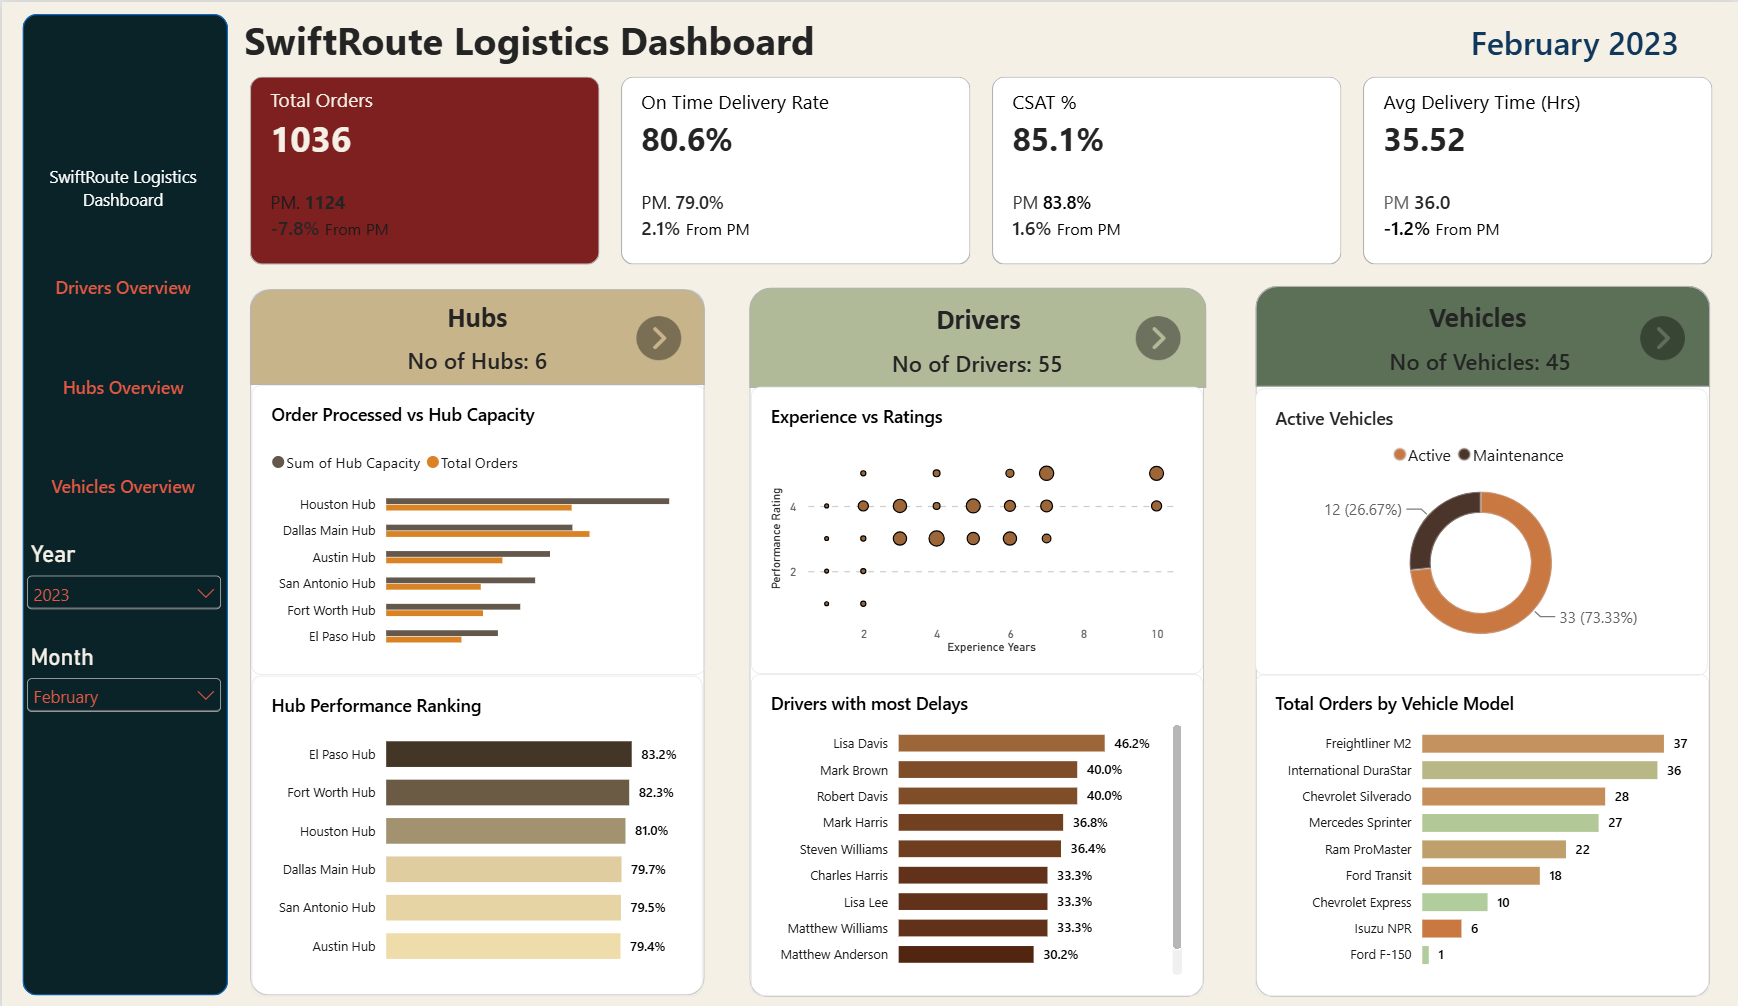

The page's visual inventory and layout, read from the dashboard file:
{"tool":"powerbi","page":{"name":"SwiftRoute Logistics Dashboard","canvas":[1450,840],"ordinal":0},"visuals":[{"type":"shape","box":[16.7,10,171.7,820],"z":0},{"type":"textbox","box":[185,10,510,47.5],"z":1000},{"type":"cardVisual","fields":{"Data":["Orders.Total Orders","Orders.On Time Delivery Rate","Orders.CSAT %","Orders.Avg Delivery Time (Hrs)"]},"box":[207.5,57.5,1222.5,162.5],"z":2000},{"type":"slicer","fields":{"Values":["Date Table.Year"]},"box":[16,450,172,70],"z":3000},{"type":"slicer","fields":{"Values":["Date Table.Month"]},"box":[16,536,172,78],"z":4000},{"type":"shape","box":[207.5,240,380,590],"z":5000},{"type":"shape","box":[207.5,240,380,80],"z":6000},{"type":"textbox","box":[207.5,248.8,380,31.2],"z":7000},{"type":"cardVisual","fields":{"Data":["Hubs.No of Hubs"]},"box":[208.6,280,377.1,38.6],"z":8000},{"type":"clusteredBarChart","title":"Order Processed vs Hub Capacity","fields":{"Category":["Hubs.HubName"],"Y":["Sum(Hubs.Hub Capacity)","Orders.Total Orders"]},"box":[208.9,320,378.9,242.2],"z":9000},{"type":"barChart","title":"Hub Performance Ranking","fields":{"Category":["Hubs.HubName"],"Y":["Orders.On Time Delivery Rate"]},"box":[208.9,562.2,376.7,267.8],"z":10000},{"type":"shape","box":[624.3,240.8,380,590],"z":11000},{"type":"textbox","box":[947.5,238.8,18.8,40],"z":12000},{"type":"shape","box":[624,238,382,84],"z":13000},{"type":"shape","box":[1047.1,241.4,380,590],"z":14000},{"type":"shape","box":[1046.7,237.8,380,84.4],"z":15000},{"type":"textbox","box":[625,250,380,32.5],"z":16000},{"type":"cardVisual","fields":{"Data":["Drivers.No of Drivers"]},"box":[626,282,378,40],"z":17000},{"type":"scatterChart","title":"Experience vs Ratings","fields":{"Size":["Sum(Drivers.Experience Years)1"],"X":["Drivers.Experience Years"],"Y":["Drivers.Performance Rating"]},"box":[625.6,321.1,377.8,240],"z":18000},{"type":"barChart","title":"Drivers with most Delays","fields":{"Category":["Drivers.DriverName"],"Y":["Orders.Delayed Delivery Rate"]},"box":[625.6,561.1,377.8,268.9],"z":19000},{"type":"textbox","box":[1043.2,248.3,380,32.5],"z":20000},{"type":"cardVisual","fields":{"Data":["Vehicles.No of Vehicles"]},"box":[1042.9,281.4,384.3,38.6],"z":21000},{"type":"donutChart","title":"Active Vehicles","fields":{"Category":["Vehicles.Vehicle Status"],"Y":["CountNonNull(Vehicles.Vehicle ID)"]},"box":[1047.8,322.2,377.8,240],"z":22000},{"type":"barChart","fields":{"Category":["Vehicles.Vehicle Model"],"Y":["Orders.Total Orders"]},"box":[1046.7,561.1,378.9,268.9],"z":23000},{"type":"cardVisual","fields":{"Data":["Orders.Year Mont Title"]},"box":[1198.6,10,231.4,47.1],"z":24000},{"type":"image","box":[947.5,257.5,37.1,47.1],"z":25000},{"type":"pageNavigator","box":[17.1,118.6,168.6,325.7],"z":26000},{"type":"image","box":[1368.8,257.5,37.1,47.1],"z":27000},{"type":"image","box":[530,257.5,37.1,47.1],"z":28000}]}

Visuals, with their boxes in screenshot pixels (x1, y1, x2, y2), scaled from the page's 1450x840 canvas onto the 1738x1006 screenshot:
shape: bbox=[20, 12, 226, 994]
textbox: bbox=[222, 12, 833, 69]
cardVisual - Orders.Total Orders x Orders.On Time Delivery Rate: bbox=[249, 69, 1714, 263]
slicer - Date Table.Year: bbox=[19, 539, 225, 623]
slicer - Date Table.Month: bbox=[19, 642, 225, 735]
shape: bbox=[249, 287, 704, 994]
shape: bbox=[249, 287, 704, 383]
textbox: bbox=[249, 298, 704, 335]
cardVisual - Hubs.No of Hubs: bbox=[250, 335, 702, 382]
"Order Processed vs Hub Capacity" clusteredBarChart: bbox=[250, 383, 705, 673]
"Hub Performance Ranking" barChart: bbox=[250, 673, 702, 994]
shape: bbox=[748, 288, 1204, 995]
textbox: bbox=[1136, 286, 1158, 334]
shape: bbox=[748, 285, 1206, 386]
shape: bbox=[1255, 289, 1711, 996]
shape: bbox=[1255, 285, 1710, 386]
textbox: bbox=[749, 299, 1205, 338]
cardVisual - Drivers.No of Drivers: bbox=[750, 338, 1203, 386]
"Experience vs Ratings" scatterChart: bbox=[750, 385, 1203, 672]
"Drivers with most Delays" barChart: bbox=[750, 672, 1203, 994]
textbox: bbox=[1250, 297, 1706, 336]
cardVisual - Vehicles.No of Vehicles: bbox=[1250, 337, 1711, 383]
"Active Vehicles" donutChart: bbox=[1256, 386, 1709, 673]
barChart - Vehicles.Vehicle Model x Orders.Total Orders: bbox=[1255, 672, 1709, 994]
cardVisual - Orders.Year Mont Title: bbox=[1437, 12, 1714, 68]
image: bbox=[1136, 308, 1180, 365]
pageNavigator: bbox=[20, 142, 223, 532]
image: bbox=[1641, 308, 1685, 365]
image: bbox=[635, 308, 680, 365]
